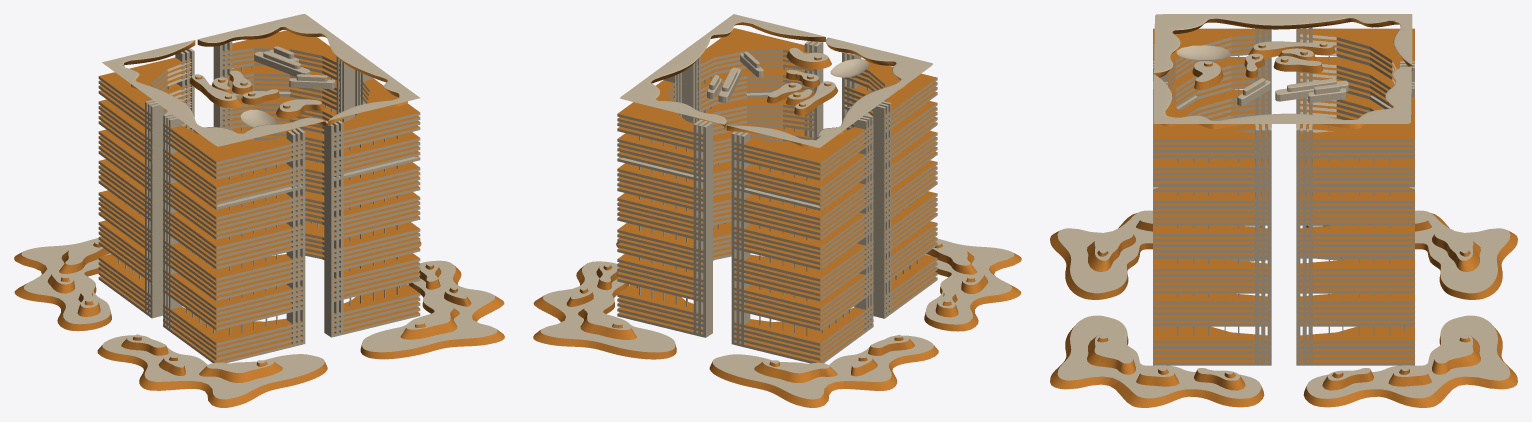
File: SM_Mukaab_Optimize.fbx
The picture shows the model from 3 angles, left to right: view 1: azimuth 30°, elevation 25°; view 2: azimuth 150°, elevation 25°; view 3: azimuth 270°, elevation 25°; orthographic projection. The views are drawn at different scales.
Visible parts, largest first — view 1: MUKAAB-floors, MUKAAB-roof, MUKAAB_Ground_03, MUKAAB_Ground_00, MUKAAB_Ground_01; view 2: MUKAAB-floors, MUKAAB-roof, MUKAAB_Ground_01, MUKAAB_Ground_02, MUKAAB_Ground_03; view 3: MUKAAB-floors, MUKAAB-roof, MUKAAB_Ground_00, MUKAAB_Ground_02, MUKAAB_Ground_03, MUKAAB_Ground_01.
Boxes of the visible parts, box(x1,y1,x2,y2) form: MUKAAB-floors: box(98, 30, 420, 363); MUKAAB-roof: box(102, 14, 420, 146); MUKAAB_Ground_03: box(97, 334, 327, 407); MUKAAB_Ground_00: box(360, 260, 504, 359); MUKAAB_Ground_01: box(14, 238, 111, 331); MUKAAB-floors: box(617, 28, 937, 363); MUKAAB-roof: box(620, 14, 932, 148); MUKAAB_Ground_01: box(709, 334, 938, 407); MUKAAB_Ground_02: box(533, 261, 676, 359); MUKAAB_Ground_03: box(924, 238, 1021, 331); MUKAAB-floors: box(1153, 27, 1414, 365); MUKAAB-roof: box(1153, 14, 1412, 129); MUKAAB_Ground_00: box(1050, 315, 1264, 407); MUKAAB_Ground_02: box(1303, 315, 1517, 407); MUKAAB_Ground_03: box(1050, 210, 1261, 299); MUKAAB_Ground_01: box(1306, 210, 1517, 299).
Size of the model in its own units: 68522 by 40562 by 69421.
